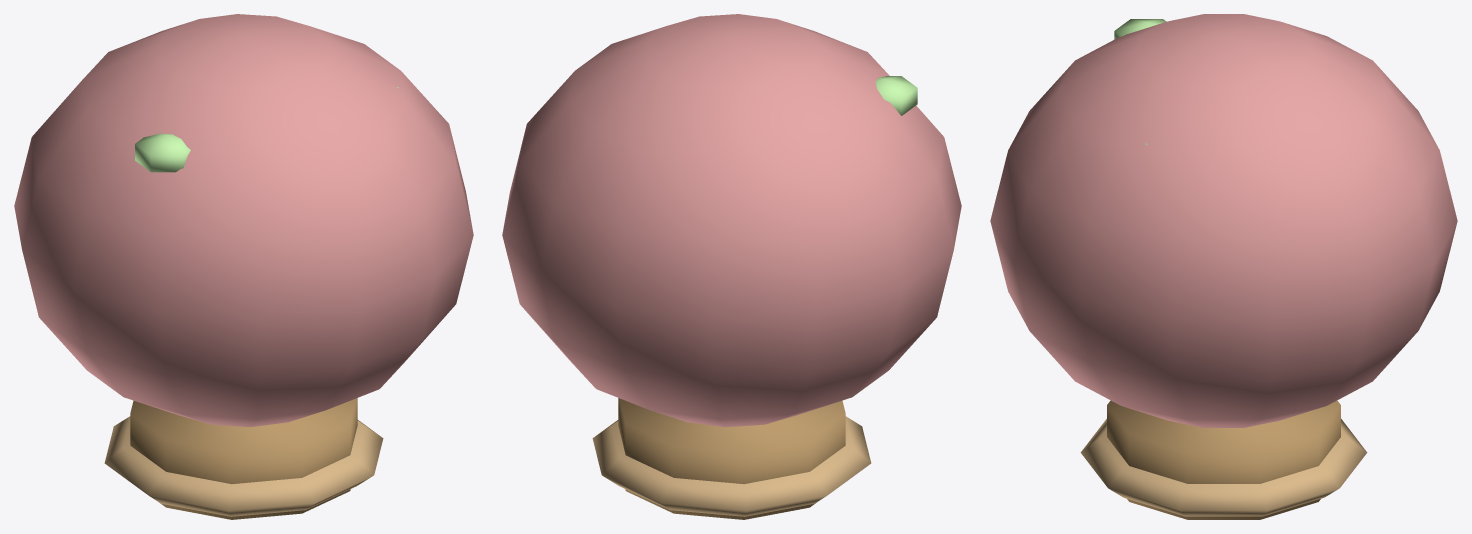
File: toxic_mushroom_young.fbx
3 views of the same model, side by side, from view 1: azimuth 30°, elevation 25°; view 2: azimuth 150°, elevation 25°; view 3: azimuth 270°, elevation 25° (orthographic).
Parts seen in each view (by area): view 1: PLQ_toxic_mushroom_young; view 2: PLQ_toxic_mushroom_young; view 3: PLQ_toxic_mushroom_young.
Part boxes in pixels (box(x1,y1,x2,y2)): PLQ_toxic_mushroom_young: box(14, 14, 473, 519); PLQ_toxic_mushroom_young: box(502, 14, 961, 519); PLQ_toxic_mushroom_young: box(990, 14, 1457, 519).
Size of the model in its own units: 35.33 by 38 by 36.23.
